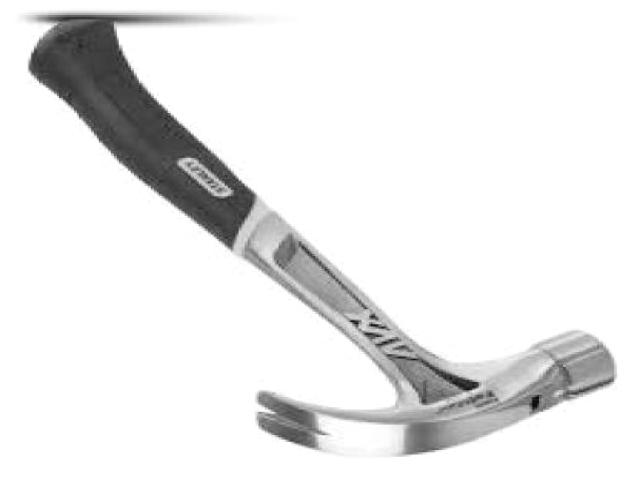Hammer: (29, 20, 612, 457)
